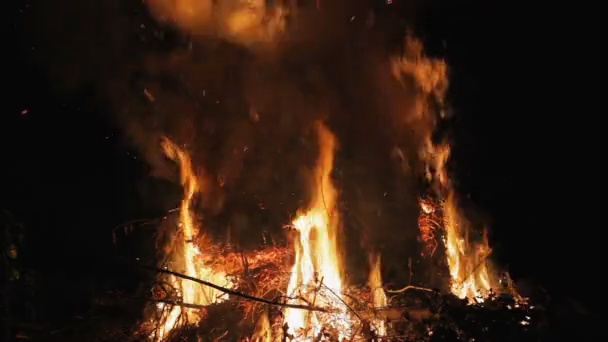fire: (418, 151, 496, 305), (151, 205, 230, 342), (282, 205, 352, 342), (368, 265, 388, 336)
